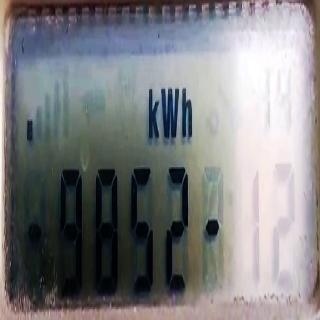-: (28, 215, 43, 251), (205, 214, 220, 242), (25, 112, 34, 148)
1: (245, 164, 266, 290)
2: (163, 158, 190, 303), (271, 155, 297, 293)
5: (126, 158, 158, 303)
8: (91, 155, 121, 307)
9: (57, 153, 85, 307)
